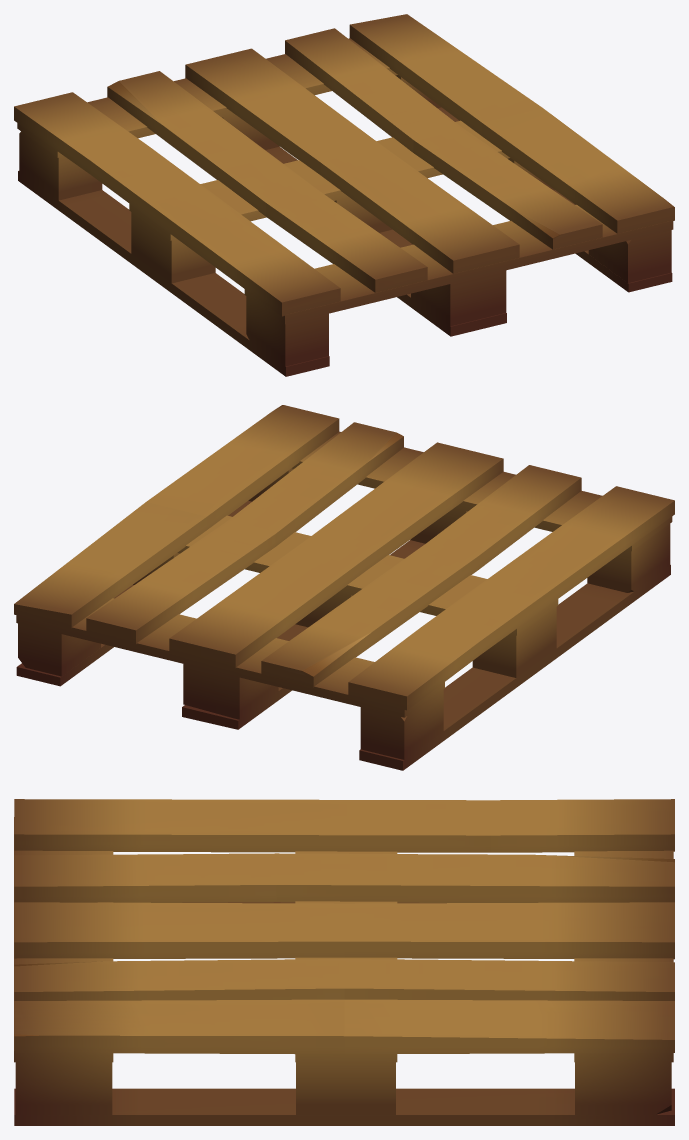
File: Wooden Pallet.glb
3 renders of one model, top to bottom at view 1: azimuth 30°, elevation 25°; view 2: azimuth 150°, elevation 25°; view 3: azimuth 270°, elevation 25°, orthographic. The views are drawn at different scales.
Parts seen in each view (by area): view 1: Cube.017_Cube.018, Cube.019_Cube.020, Cube.015_Cube.016, Cube.020_Cube.021, Cube.016_Cube.017, Cube.008_Cube.009, Cube.013_Cube.014, Cube.010_Cube.011, Cube.002_Cube.003, Cube.014_Cube.015, Cube.012_Cube.013, Cube.011_Cube.012 (+6 smaller); view 2: Cube.017_Cube.018, Cube.019_Cube.020, Cube.015_Cube.016, Cube.020_Cube.021, Cube.016_Cube.017, Cube.008_Cube.009, Cube.012_Cube.013, Cube.009_Cube.010, Cube.001_Cube.002, Cube.014_Cube.015, Cube.013_Cube.014, Cube.011_Cube.012 (+6 smaller); view 3: Cube.017_Cube.018, Cube.015_Cube.016, Cube.019_Cube.020, Cube.020_Cube.021, Cube.016_Cube.017, Cube.007_Cube.008, Cube.004_Cube.005, Cube.005_Cube.006, Cube.006_Cube.007, Cube.013_Cube.014, Cube.012_Cube.013, Cube.014_Cube.015.
Part boxes in pixels (box(x1,y1,x2,y2)): Cube.017_Cube.018: box(185, 48, 519, 273); Cube.019_Cube.020: box(14, 92, 340, 316); Cube.015_Cube.016: box(349, 14, 674, 233); Cube.020_Cube.021: box(107, 71, 427, 292); Cube.016_Cube.017: box(285, 28, 602, 249); Cube.008_Cube.009: box(18, 171, 329, 376); Cube.013_Cube.014: box(244, 204, 673, 324); Cube.010_Cube.011: box(246, 296, 328, 366); Cube.002_Cube.003: box(411, 270, 506, 326); Cube.014_Cube.015: box(129, 120, 509, 240); Cube.012_Cube.013: box(17, 38, 397, 157); Cube.011_Cube.012: box(131, 212, 215, 283); Cube.017_Cube.018: box(169, 442, 503, 668); Cube.019_Cube.020: box(348, 486, 674, 710); Cube.015_Cube.016: box(14, 405, 339, 628); Cube.020_Cube.021: box(261, 465, 581, 687); Cube.016_Cube.017: box(86, 422, 403, 644); Cube.008_Cube.009: box(359, 565, 670, 770); Cube.012_Cube.013: box(16, 598, 444, 717); Cube.009_Cube.010: box(360, 689, 443, 759); Cube.001_Cube.002: box(183, 664, 278, 719); Cube.014_Cube.015: box(177, 515, 558, 635); Cube.013_Cube.014: box(292, 431, 672, 551); Cube.011_Cube.012: box(472, 607, 556, 677); Cube.017_Cube.018: box(14, 902, 674, 959); Cube.015_Cube.016: box(14, 999, 674, 1054); Cube.019_Cube.020: box(14, 799, 674, 852); Cube.020_Cube.021: box(14, 853, 674, 902); Cube.016_Cube.017: box(14, 959, 674, 1000); Cube.007_Cube.008: box(14, 1088, 674, 1125); Cube.004_Cube.005: box(296, 1062, 395, 1114); Cube.005_Cube.006: box(15, 1062, 112, 1114); Cube.006_Cube.007: box(575, 1062, 671, 1114); Cube.013_Cube.014: box(14, 817, 113, 1062); Cube.012_Cube.013: box(574, 850, 673, 1062); Cube.014_Cube.015: box(295, 851, 397, 1062).
Bounding box in the file's own units: 6.08 × 1.12 × 7.15.
Materials: 1 (1 with a texture image).
